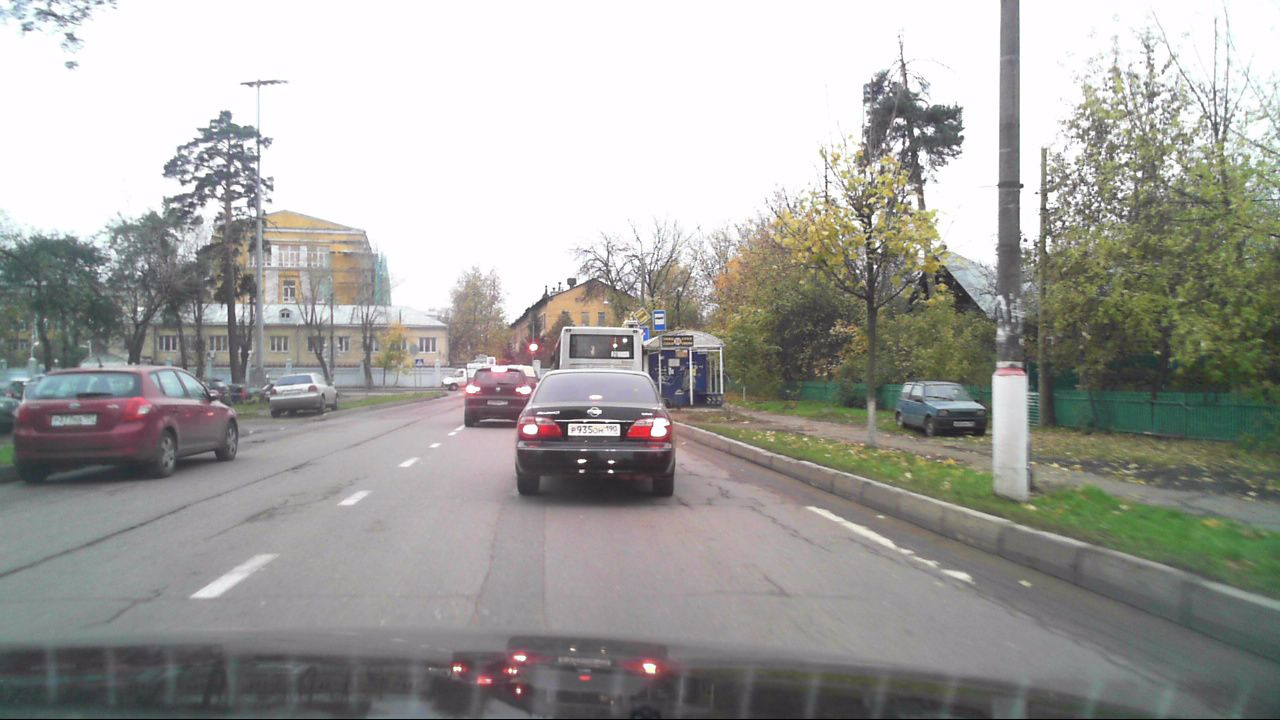main road: (634, 306, 650, 324)
